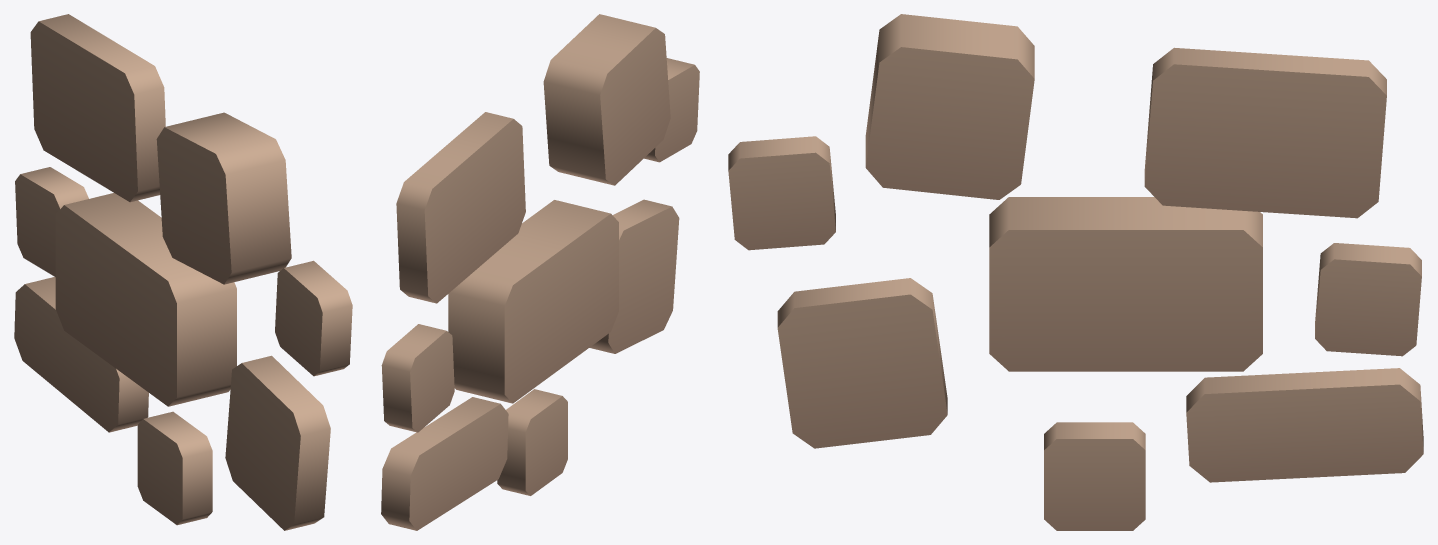
File: brick-assorted-large (%wall).glb
The picture shows the model from 3 angles, left to right: view 1: azimuth 30°, elevation 25°; view 2: azimuth 150°, elevation 25°; view 3: azimuth 270°, elevation 25°; orthographic projection. The views are drawn at different scales.
Visible parts, largest first — view 1: brick-assorted-large (%wall); view 2: brick-assorted-large (%wall); view 3: brick-assorted-large (%wall).
Part boxes in pixels (<box>): brick-assorted-large (%wall): <box>14,14,352,530</box>; brick-assorted-large (%wall): <box>381,14,699,530</box>; brick-assorted-large (%wall): <box>728,14,1423,530</box>.
Size of the model in its own units: 0.1 by 0.6831 by 0.8893.
